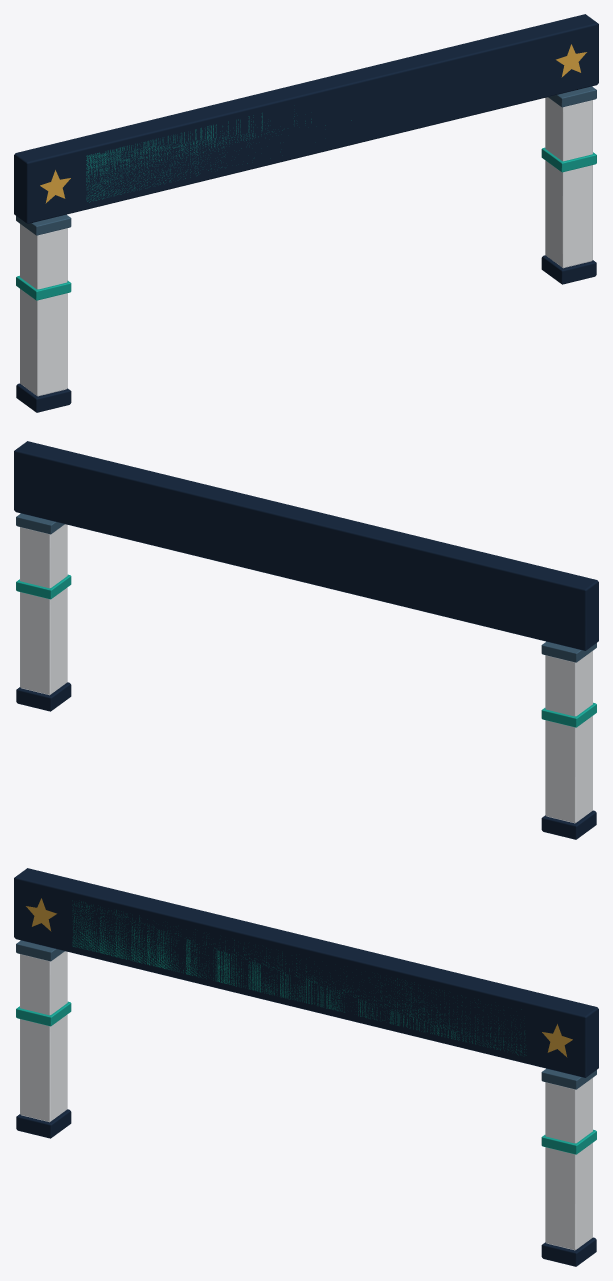
File: CM_Prop_SpawnArch.fbx
3 renders of one model, top to bottom at view 1: azimuth 30°, elevation 25°; view 2: azimuth 150°, elevation 25°; view 3: azimuth 330°, elevation 25°, orthographic.
Parts seen in each view (by area): view 1: Body, Face; view 2: Body; view 3: Body, Face.
Part boxes in pixels (x1,y1,x2,y2): Body: (14,14,598,412); Face: (86,113,351,202); Body: (14,441,598,839); Body: (14,868,598,1266); Face: (72,900,526,1055).
Bounding box in the file's own units: 48 × 3 × 20.
1 material, 1 textured.
